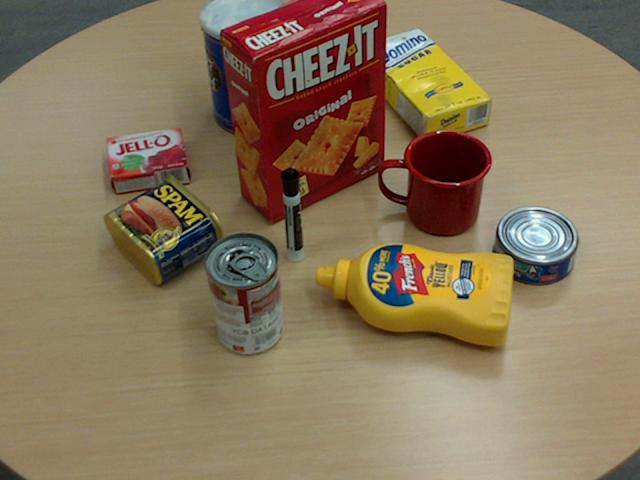cracker_box: (218, 0, 387, 222)
gelatin_box: (105, 126, 188, 192)
large_marker: (279, 168, 304, 262)
master_chef_can: (199, 0, 293, 135)
mug: (379, 128, 491, 234)
mustard_bottle: (314, 243, 513, 344)
potted_meat_can: (104, 173, 225, 284)
sugar_box: (358, 27, 492, 143)
tomato_soup_can: (202, 231, 282, 354)
tuna_fish_can: (493, 205, 578, 283)
